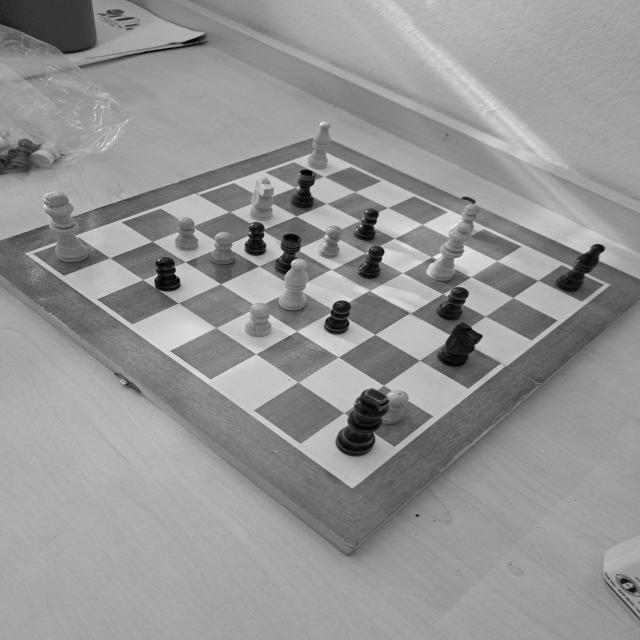chess-table-corners: (332, 468, 370, 493), (18, 245, 50, 264), (310, 145, 332, 160), (594, 278, 614, 291)
